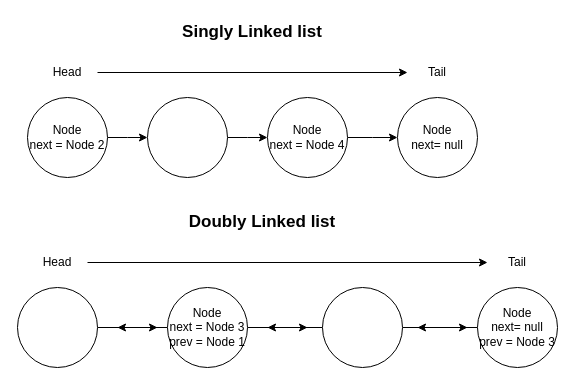
Image size: 575x385. Some labels were removed from this diagram. The centre of each missing label's shape, as x and y in pixels:
"Node next = Node 2 prev = null" goes at (x=57, y=327).
"Node next = Node 3" goes at (x=187, y=137).
"Node next = Node 4 prev = Node 2" goes at (x=362, y=327).
